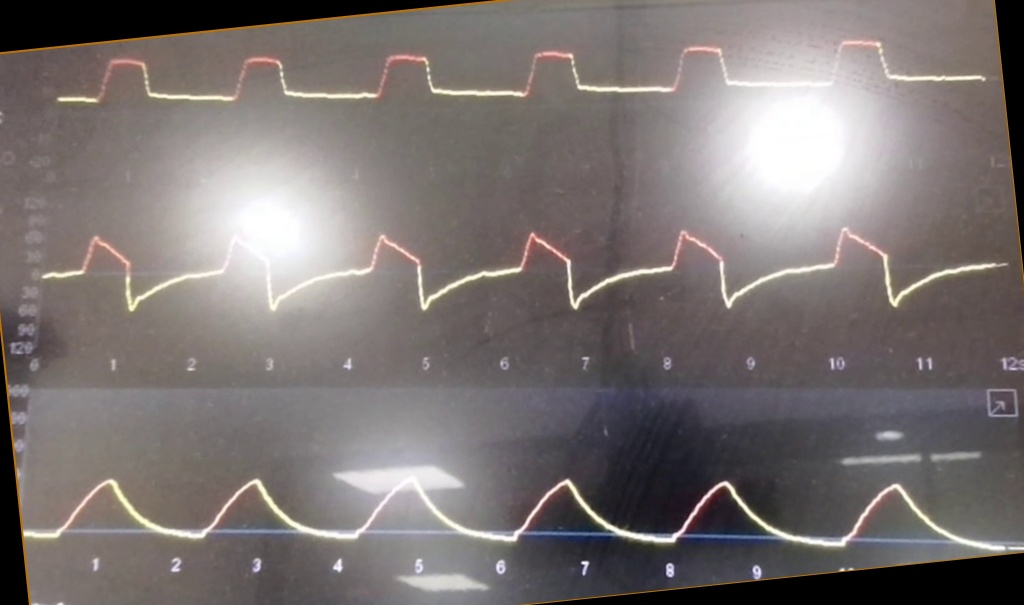Normal Flow: (46, 200, 1013, 340)
Normal Volume: (28, 436, 1007, 549)
